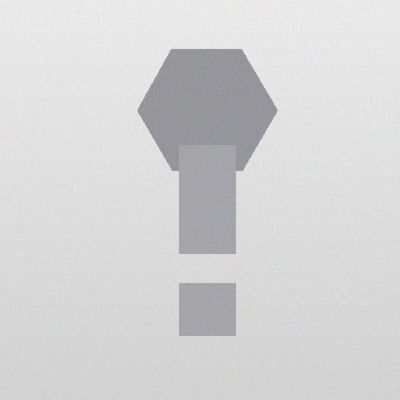broken: (167, 248, 247, 288)
